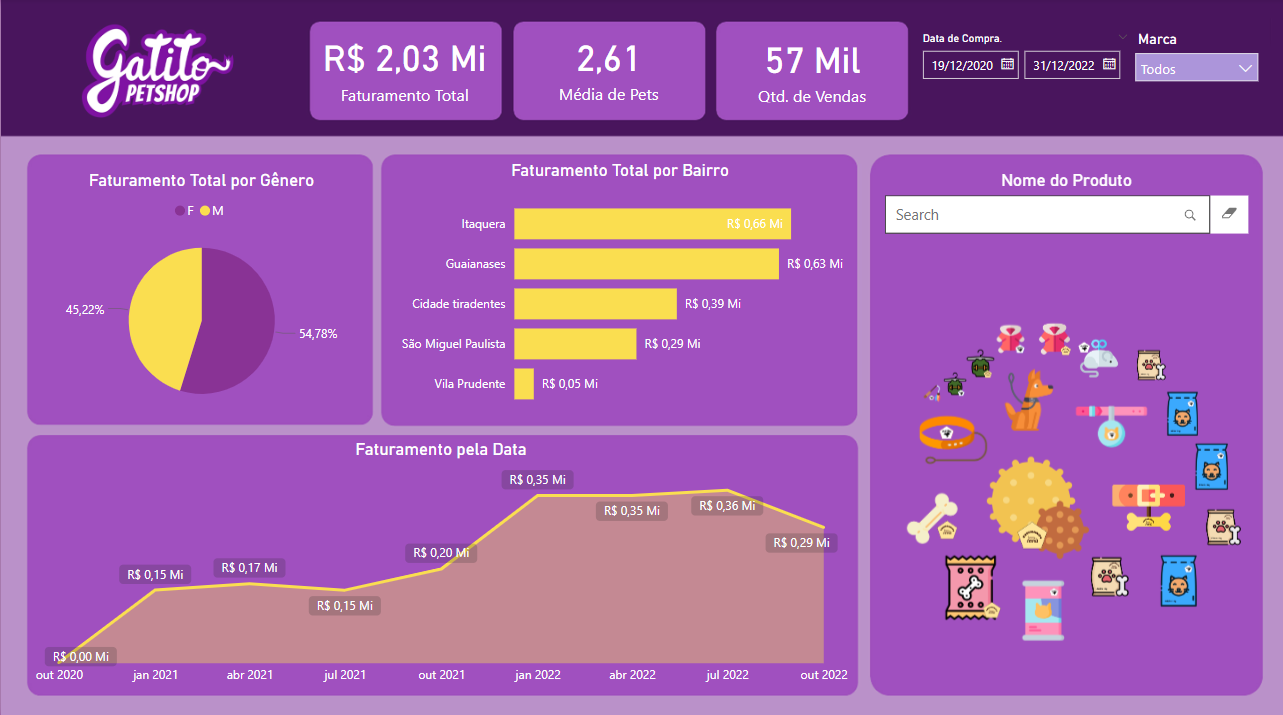

Layout of this report page (visuals, bound fields, positions):
{"tool":"powerbi","page":{"name":"Gatito","canvas":[1280,720],"ordinal":0},"visuals":[{"type":"card","fields":{"Values":["Avg(Clientes.Pets)"]},"box":[513.9,6.7,184.7,120.9],"z":0},{"type":"card","fields":{"Values":["Sum(Vendas.Quantidade)"]},"box":[725.4,28.5,166.2,80.6],"z":1000},{"type":"card","fields":{"Values":["Vendas.Faturameto Total"]},"box":[290.5,11.8,223.3,110.8],"z":2000},{"type":"pieChart","fields":{"Category":["Clientes.Gênero"],"Y":["Vendas.Faturameto Total"]},"box":[26.9,173,345.9,250.2],"z":3000},{"type":"clusteredBarChart","fields":{"Category":["Clientes.Bairro"],"Y":["Vendas.Faturameto Total"]},"box":[385.6,161.6,463.1,260.6],"z":4000},{"type":"areaChart","title":"Faturamento pela Data","fields":{"Category":["Vendas.Data de compra.Variation.Hierarquia de datas.Ano","Vendas.Data de compra.Variation.Hierarquia de datas.Trimestre","Vendas.Data de compra.Variation.Hierarquia de datas.Mês","Vendas.Data de compra.Variation.Hierarquia de datas.Dia"],"Y":["Vendas.Faturamento Total"]},"box":[28.5,440.4,821.1,254.2],"z":5000},{"type":"ImageGrid_FC5183B9_926C_45E0_B5F7_0CE9EAF1DA9B","fields":{"ImageURL":["Produtos.Url img"]},"box":[876.6,272,387.9,421.5],"z":6000},{"type":"textFilter25A4896A83E0487089E2B90C9AE57C8A","title":"Nome do Produto","fields":{"field":["Produtos.Nome produto"]},"box":[876.7,172.3,372.6,79.7],"z":7000},{"type":"slicer","fields":{"Values":["Produtos.Marca"]},"box":[1121.8,26.9,142.7,78.9],"z":8000},{"type":"slicer","fields":{"Values":["Vendas.Data de compra"]},"box":[906.8,28.5,230.1,80.6],"z":9000}]}

Visuals, with their boxes in screenshot pixels (x1, y1, x2, y2), scaled from the page's 1280x720 canvas onto the 1283x715 screenshot:
card - Avg(Clientes.Pets): 515:7:700:127
card - Sum(Vendas.Quantidade): 727:28:894:108
card - Vendas.Faturameto Total: 291:12:515:122
pieChart - Clientes.Gênero x Vendas.Faturameto Total: 27:172:374:420
clusteredBarChart - Clientes.Bairro x Vendas.Faturameto Total: 387:160:851:419
"Faturamento pela Data" areaChart: 29:437:852:690
ImageGrid_FC5183B9_926C_45E0_B5F7_0CE9EAF1DA9B - Produtos.Url img: 879:270:1267:689
"Nome do Produto" textFilter25A4896A83E0487089E2B90C9AE57C8A: 879:171:1252:250
slicer - Produtos.Marca: 1124:27:1267:105
slicer - Vendas.Data de compra: 909:28:1140:108
